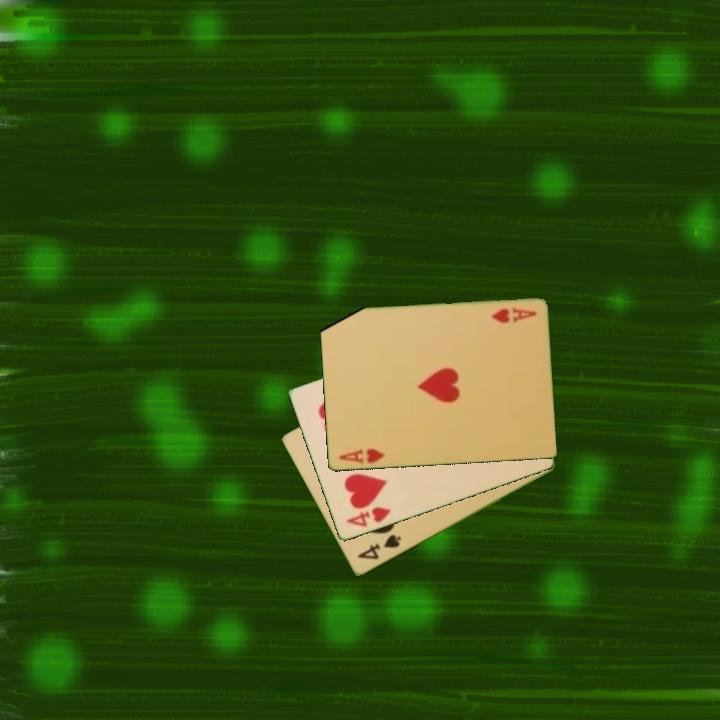4h: (342, 503, 393, 530)
4s: (354, 531, 404, 563)
Ah: (487, 304, 539, 326), (335, 445, 388, 466)
